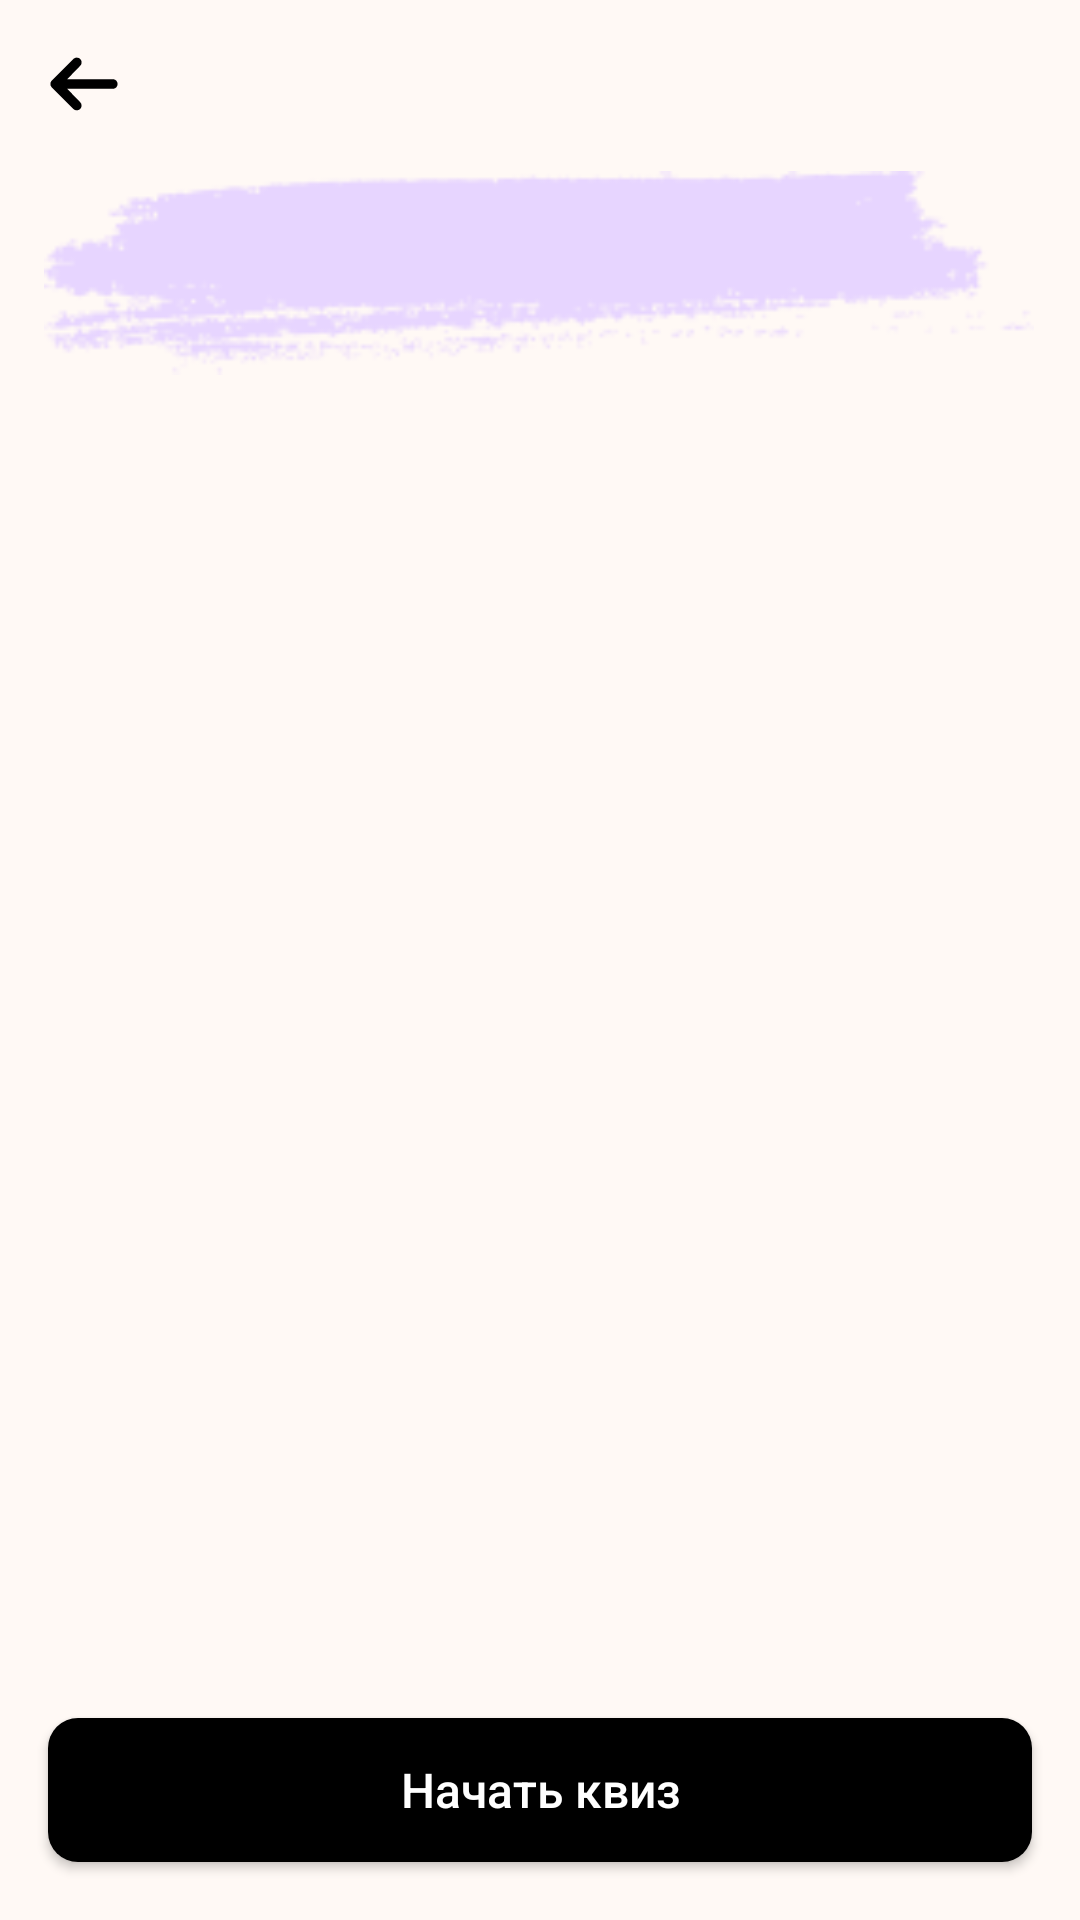

Icons on this 1080 x 1920 Android screen, each with its box as bbox=(x1, y1, x2, y2):
maki arrow: bbox=(50, 57, 118, 111)
